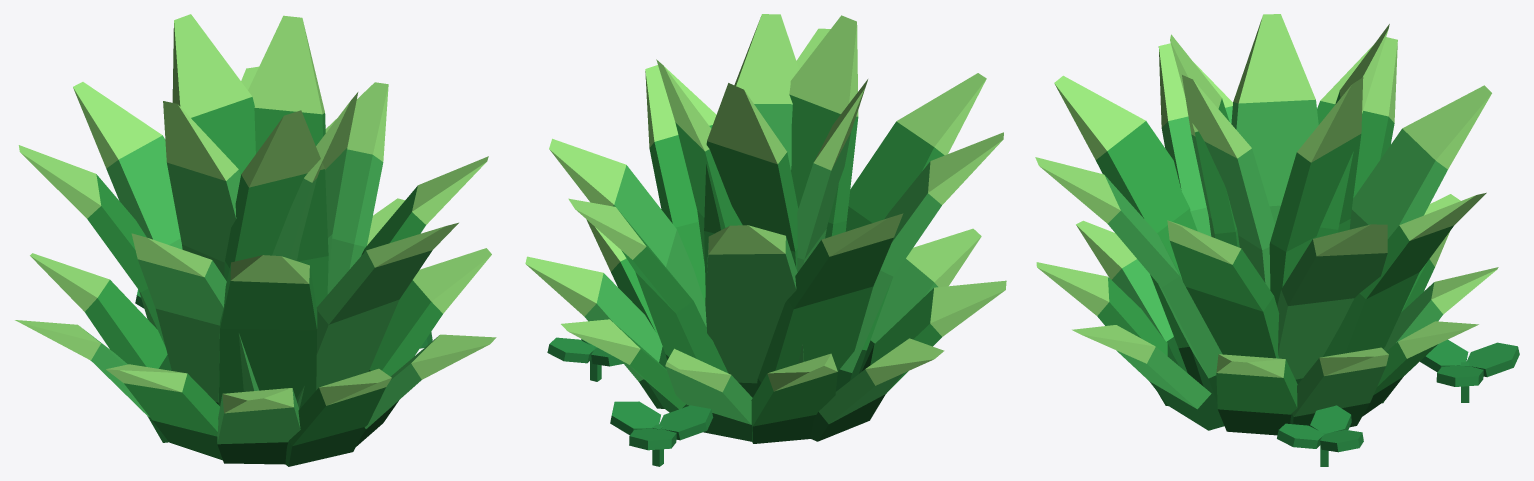
Rendered from tuft_golf.glb.
The picture shows the model from 3 angles, left to right: view 1: azimuth 30°, elevation 25°; view 2: azimuth 150°, elevation 25°; view 3: azimuth 270°, elevation 25°; orthographic projection. The views are drawn at different scales.
Visible parts, largest first — view 1: Grass__96E878, Grass__32AA48, Grass__46C05A, Grass__1C6E2E; view 2: Grass__96E878, Grass__32AA48, Grass__46C05A, SmoothPlastic__289646, Grass__1C6E2E; view 3: Grass__46C05A, Grass__96E878, Grass__32AA48, SmoothPlastic__289646, Grass__1C6E2E.
Part boxes in pixels (x1,y1,x2,y2): Grass__96E878: (15,14,496,413); Grass__32AA48: (85,97,442,445); Grass__46C05A: (85,135,439,444); Grass__1C6E2E: (147,355,398,466); Grass__96E878: (525,14,1006,392); Grass__32AA48: (611,94,944,426); Grass__46C05A: (584,104,941,424); SmoothPlastic__289646: (547,337,713,466); Grass__1C6E2E: (639,340,885,443); Grass__46C05A: (1104,99,1447,416); Grass__96E878: (1035,14,1498,377); Grass__32AA48: (1096,90,1453,414); SmoothPlastic__289646: (1277,339,1519,466); Grass__1C6E2E: (1149,337,1403,435).
Size of the model in its own units: 3.9 by 3.28 by 4.03.
